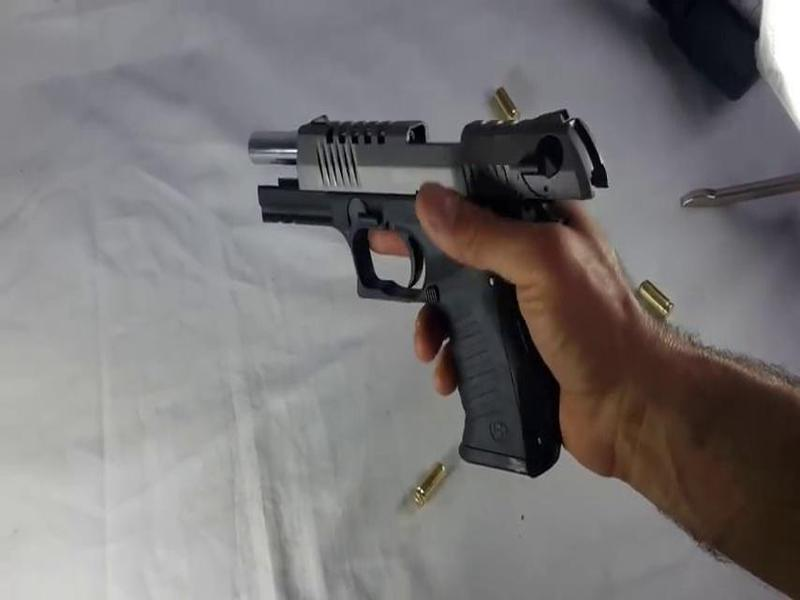Pistola: (232, 78, 629, 482)
